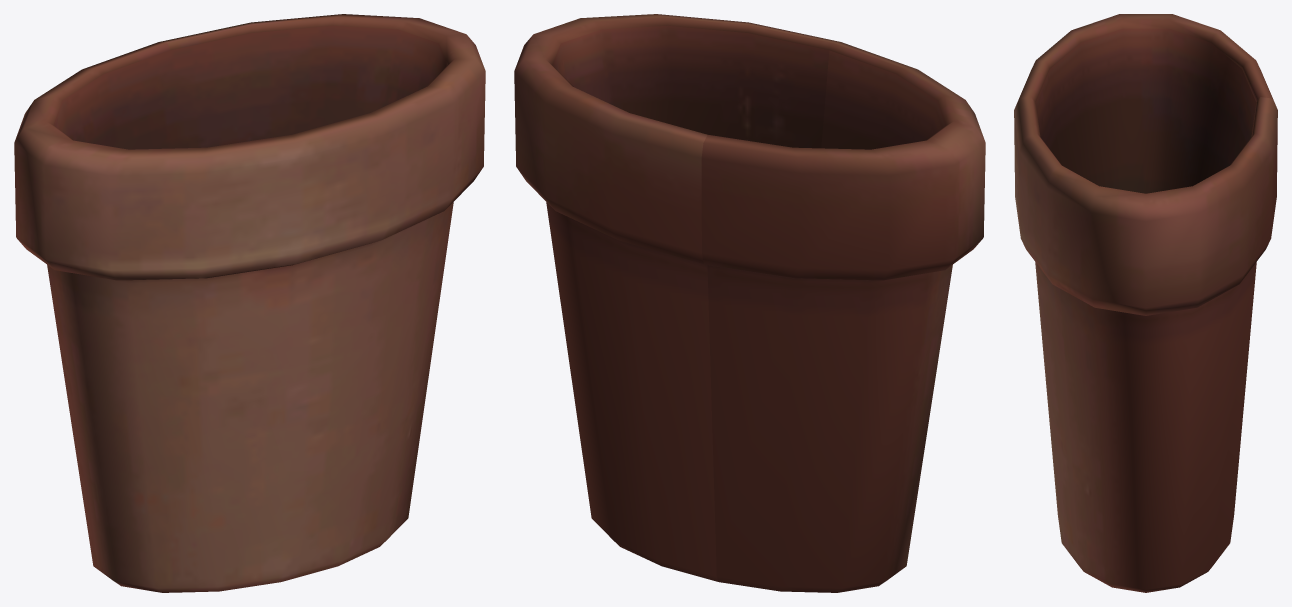
The model's file is Plant Pot.dae.
The picture shows the model from 3 angles, left to right: view 1: azimuth 30°, elevation 25°; view 2: azimuth 150°, elevation 25°; view 3: azimuth 270°, elevation 25°; orthographic projection. The views are drawn at different scales.
Parts seen in each view (by area): view 1: Mesh_0.037; view 2: Mesh_0.037; view 3: Mesh_0.037.
Boxes of the visible parts, x1,y1,x2,y2 form: Mesh_0.037: (14, 14, 485, 592); Mesh_0.037: (514, 14, 985, 592); Mesh_0.037: (1014, 14, 1277, 592).
Bounding box in the file's own units: 4.21 × 2.35 × 4.16.
Materials: 1 (1 with a texture image).
